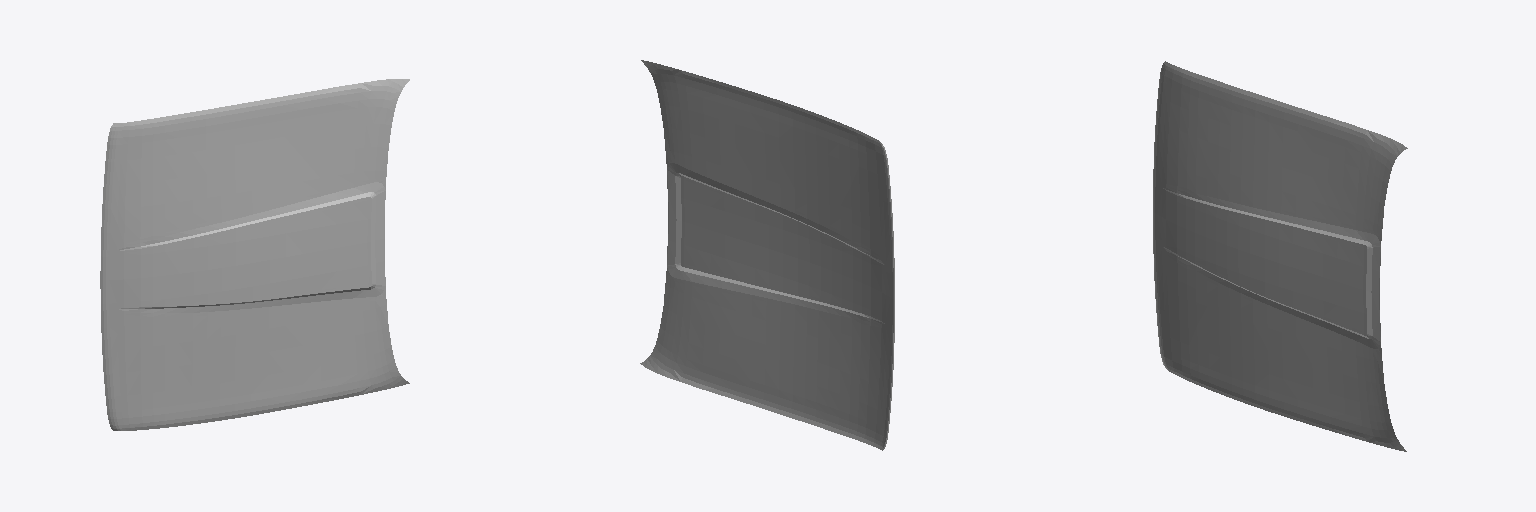
File: hood.obj
3 views of the same model, side by side, from view 1: azimuth 30°, elevation 25°; view 2: azimuth 150°, elevation 25°; view 3: azimuth 330°, elevation 25° (orthographic).
Visible parts, largest first — view 1: body_006; view 2: body_006; view 3: body_006.
Boxes of the visible parts, x1,y1,x2,y2 form: body_006: [100, 79, 409, 430]; body_006: [640, 60, 894, 450]; body_006: [1153, 61, 1407, 451].
Bounding box in the file's own units: 52.47 × 55.64 × 9.23.